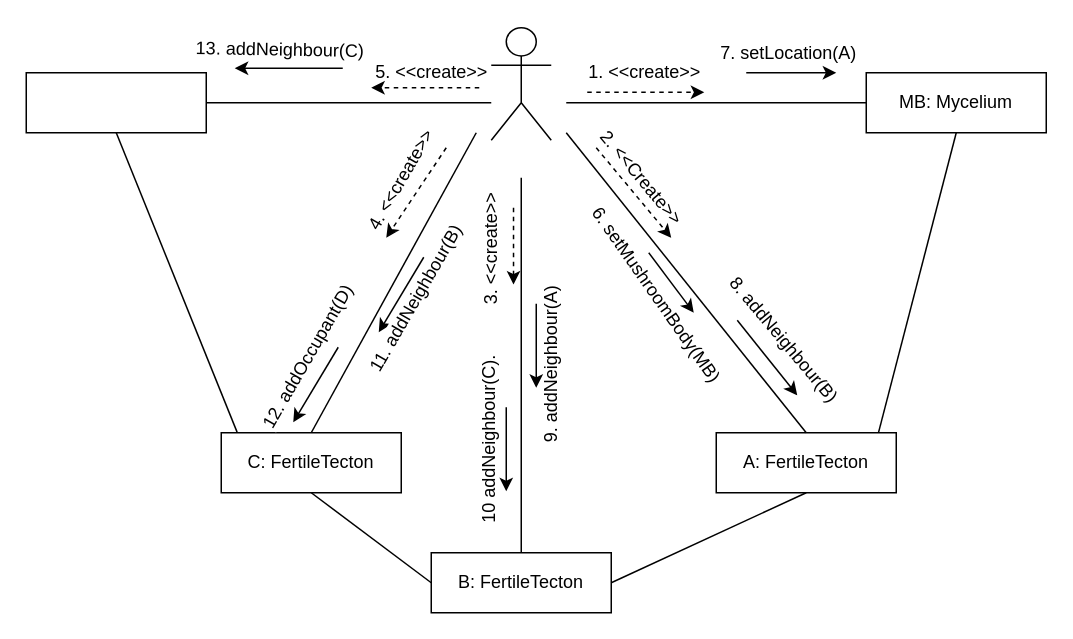
The diagram is 1073 pixels wide and 639 high, and some of its shapes have lost their labels. Here are the shapes that lost their labels. From the top down, the centre of each, then its label:
the point at 115,102: D: FertileTecton
the point at 520,83: Tesztelő
